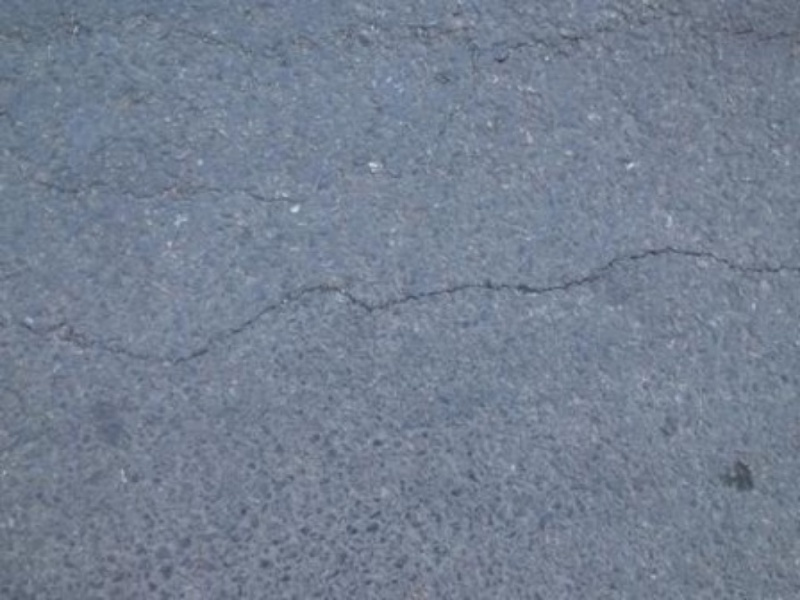crack: (15, 225, 787, 394)
